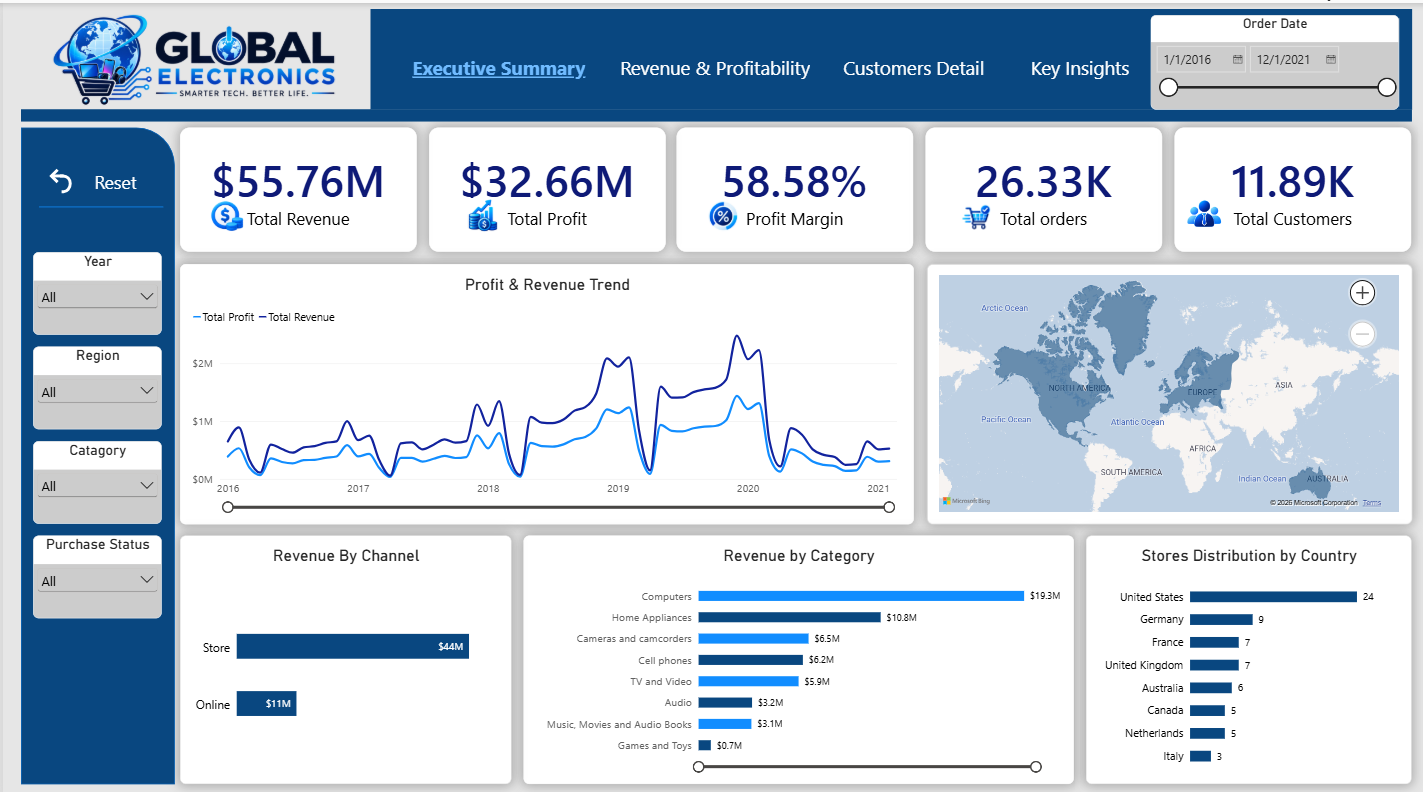

The dashboard page shown, as its layout file describes it:
{"tool":"powerbi","page":{"name":"Executive summary","canvas":[1920,1080],"ordinal":0},"visuals":[{"type":"image","box":[24,8,472,136],"z":0},{"type":"actionButton","box":[528,48,272,80],"z":0,"group":"g8"},{"type":"card","title":"Total Revenue","fields":{"Values":["Sales.Total Revenue"]},"box":[240,168,320,168],"z":0,"group":"g6"},{"type":"group","id":"g1","title":"Group 1","box":[912,168,320,168],"z":0,"group":"g2"},{"type":"actionButton","box":[800,48,304,80],"z":1000,"group":"g8"},{"type":"group","id":"g2","title":"Group 6","box":[240,168,1664,168],"z":1000},{"type":"group","id":"g3","title":"Group 2","box":[576,168,320,168],"z":1000,"group":"g2"},{"type":"card","title":"Total Revenue","fields":{"Values":["Sales.Total Profit"]},"box":[576,168,320,168],"z":1000,"group":"g3"},{"type":"actionButton","box":[1104,48,256,80],"z":2000,"group":"g8"},{"type":"group","id":"g4","title":"Group 4","box":[1248,168,320,168],"z":2000,"group":"g2"},{"type":"card","title":"Total Revenue","fields":{"Values":["Sales.Total orders"]},"box":[1248,168,320,168],"z":2000,"group":"g4"},{"type":"card","title":"Total Revenue⚖️","fields":{"Values":["Sales.Total Customers"]},"box":[1584,168,320,168],"z":2000,"group":"g5"},{"type":"lineChart","title":"Profit & Revenue Trend","fields":{"Category":["calendar.month.Variation.Date Hierarchy.Year","calendar.month.Variation.Date Hierarchy.Quarter","calendar.month.Variation.Date Hierarchy.Month","calendar.month.Variation.Date Hierarchy.Day"],"Y":["Sales.Total Profit","Sales.Total Revenue"]},"box":[240,352,992,352],"z":2000},{"type":"actionButton","box":[1360,48,176,80],"z":3000,"group":"g8"},{"type":"card","title":"Total Revenue","fields":{"Values":["Sales.Margin"]},"box":[912,168,320,168],"z":3000,"group":"g1"},{"type":"group","id":"g5","title":"Group 5","box":[1584,168,320,168],"z":3000,"group":"g2"},{"type":"filledMap","title":"Total Revenue by Region","fields":{"Category":["Customers.Continent"],"Y":["Sales.Total Revenue"]},"box":[1248,352,656,352],"z":3000},{"type":"group","id":"g6","title":"Group 3","box":[240,168,320,168],"z":4000,"group":"g2"},{"type":"barChart","title":"Revenue by Category","fields":{"Category":["Products.Category"],"Y":["Sales.Total Revenue"]},"box":[704,720,744,336],"z":4000},{"type":"barChart","title":"Revenue By Channel","fields":{"Category":["Sales.Purchase Status"],"Y":["Sales.Total Revenue"]},"box":[240,720,448,336],"z":5000},{"type":"image","box":[1600,264,48,40],"z":6000},{"type":"image","box":[1296,264,40,48],"z":7000},{"type":"image","box":[944,264,56,48],"z":8000},{"type":"image","box":[624,264,48,48],"z":9000},{"type":"slicer","title":"Year","fields":{"Values":["calendar.Year"]},"box":[40,336,174.1,112],"z":9000,"group":"g7"},{"type":"image","box":[272,264,56,48],"z":10000},{"type":"barChart","title":"Stores Distribution by Country","fields":{"Category":["Stores.Country"],"Y":["Stores.Total Stores"]},"box":[1464,720,440,336],"z":11000},{"type":"shape","box":[24,144,1880,16],"z":12000},{"type":"slicer","title":"Region","fields":{"Values":["Customers.Continent"]},"box":[40,464,174.1,112],"z":12000,"group":"g7"},{"type":"shape","box":[24,168,208,888],"z":13000},{"type":"shape","box":[496,8,1408,136],"z":14000},{"type":"slicer","title":"Order Date","fields":{"Values":["calendar.month"]},"box":[1552,16,336,128],"z":15000},{"type":"slicer","title":"Purchase Status","fields":{"Values":["Sales.Purchase Status"]},"box":[40,720,174.1,112],"z":15000,"group":"g7"},{"type":"actionButton","box":[48,216,144,48],"z":16000},{"type":"shape","box":[48,264,168,24],"z":17000},{"type":"group","id":"g7","title":"Group 7","box":[40,336,160,496],"z":18000},{"type":"group","id":"g8","title":"Group 8","box":[528,48,1008,80],"z":19000},{"type":"slicer","title":"Catagory","fields":{"Values":["Products.Category"]},"box":[40,592,174.1,112],"z":23000,"group":"g7"}]}

Visuals, with their boxes in screenshot pixels (x1, y1, x2, y2), scaled from the page's 1920x1080 canvas onto the 1423x792 screenshot:
image: 18,6,368,106
actionButton: 391,35,593,94
"Total Revenue" card: 178,123,415,246
"Group 1" group: 676,123,913,246
actionButton: 593,35,818,94
"Group 6" group: 178,123,1411,246
"Group 2" group: 427,123,664,246
"Total Revenue" card: 427,123,664,246
actionButton: 818,35,1008,94
"Group 4" group: 925,123,1162,246
"Total Revenue" card: 925,123,1162,246
"Total Revenue⚖️" card: 1174,123,1411,246
"Profit & Revenue Trend" lineChart: 178,258,913,516
actionButton: 1008,35,1138,94
"Total Revenue" card: 676,123,913,246
"Group 5" group: 1174,123,1411,246
"Total Revenue by Region" filledMap: 925,258,1411,516
"Group 3" group: 178,123,415,246
"Revenue by Category" barChart: 522,528,1073,774
"Revenue By Channel" barChart: 178,528,510,774
image: 1186,194,1221,223
image: 961,194,990,229
image: 700,194,741,229
image: 462,194,498,229
"Year" slicer: 30,246,159,329
image: 202,194,243,229
"Stores Distribution by Country" barChart: 1085,528,1411,774
shape: 18,106,1411,117
"Region" slicer: 30,340,159,422
shape: 18,123,172,774
shape: 368,6,1411,106
"Order Date" slicer: 1150,12,1399,106
"Purchase Status" slicer: 30,528,159,610
actionButton: 36,158,142,194
shape: 36,194,160,211
"Group 7" group: 30,246,148,610
"Group 8" group: 391,35,1138,94
"Catagory" slicer: 30,434,159,516
